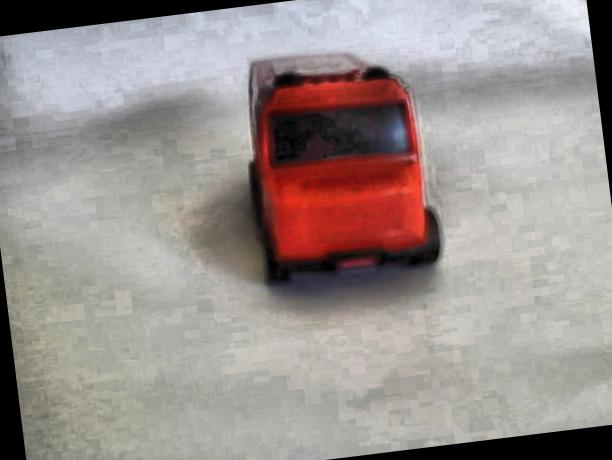fire_truck: (238, 45, 445, 306)
